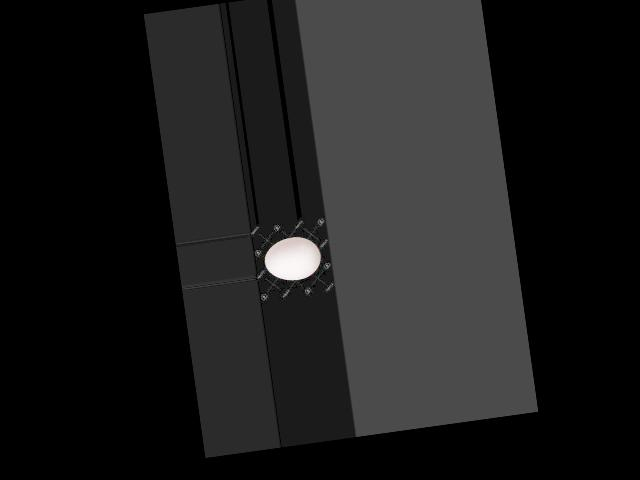egg: (262, 234, 323, 284)
